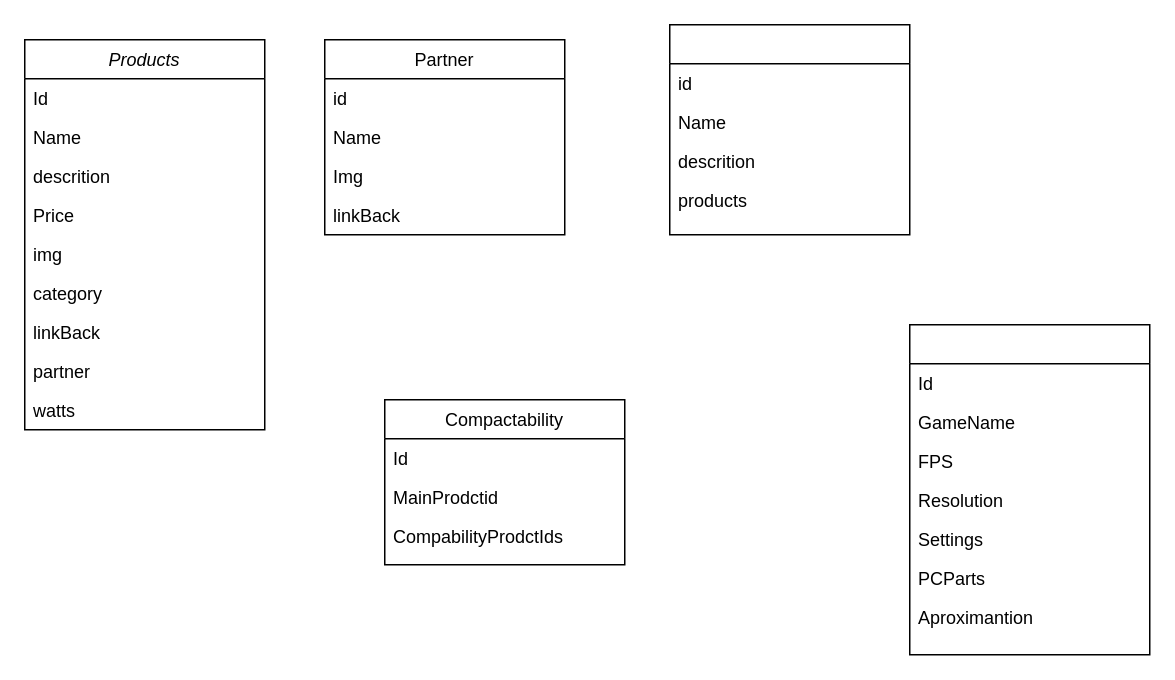
The diagram is 1175 pixels wide and 680 high, and some of its shapes have lost their labels. The shapes that lost their labels are listed below. From the top down, each one's box as (x1, y1, x2, y2) in pixels, then its label:
(668, 23, 910, 235): DiscountCampains
(908, 323, 1150, 655): FPSExpection
